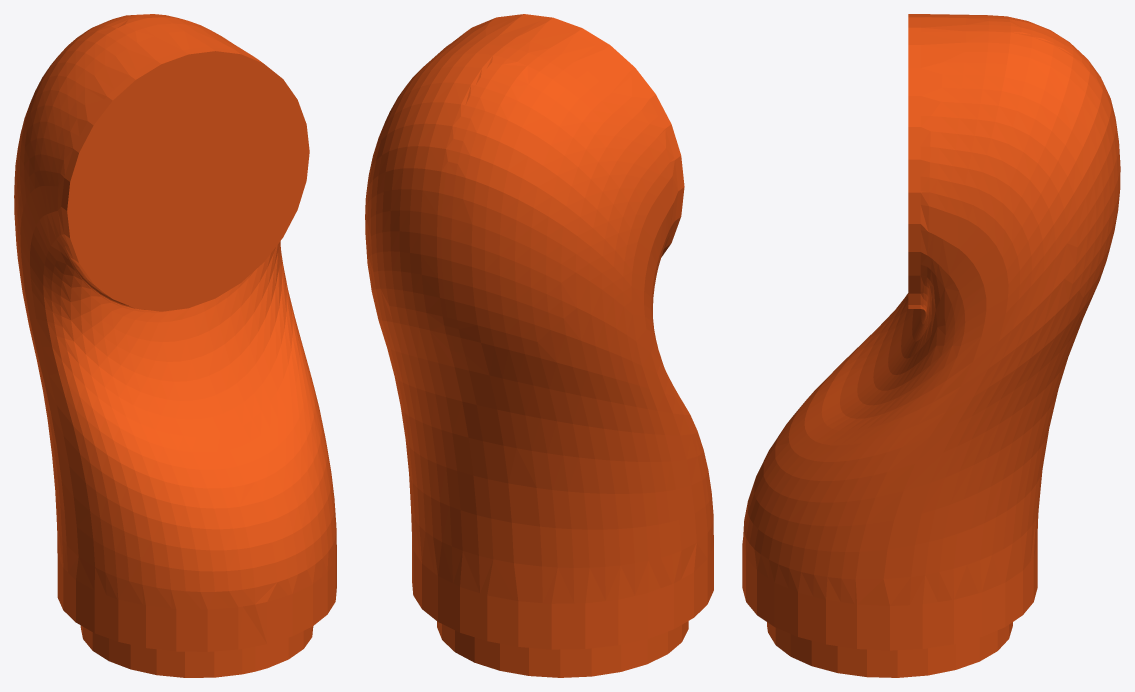
3 renders of one model, left to right at view 1: azimuth 30°, elevation 25°; view 2: azimuth 150°, elevation 25°; view 3: azimuth 270°, elevation 25°, orthographic. The views are drawn at different scales.
Parts seen in each view (by area): view 1: link_3; view 2: link_3; view 3: link_3.
Boxes of the visible parts, left/top/right/bottom form: link_3: left=14, top=14, right=336, bottom=677; link_3: left=365, top=14, right=713, bottom=677; link_3: left=742, top=14, right=1120, bottom=677.
Bounding box in the file's own units: 0.12 × 0.1538 × 0.2685.
